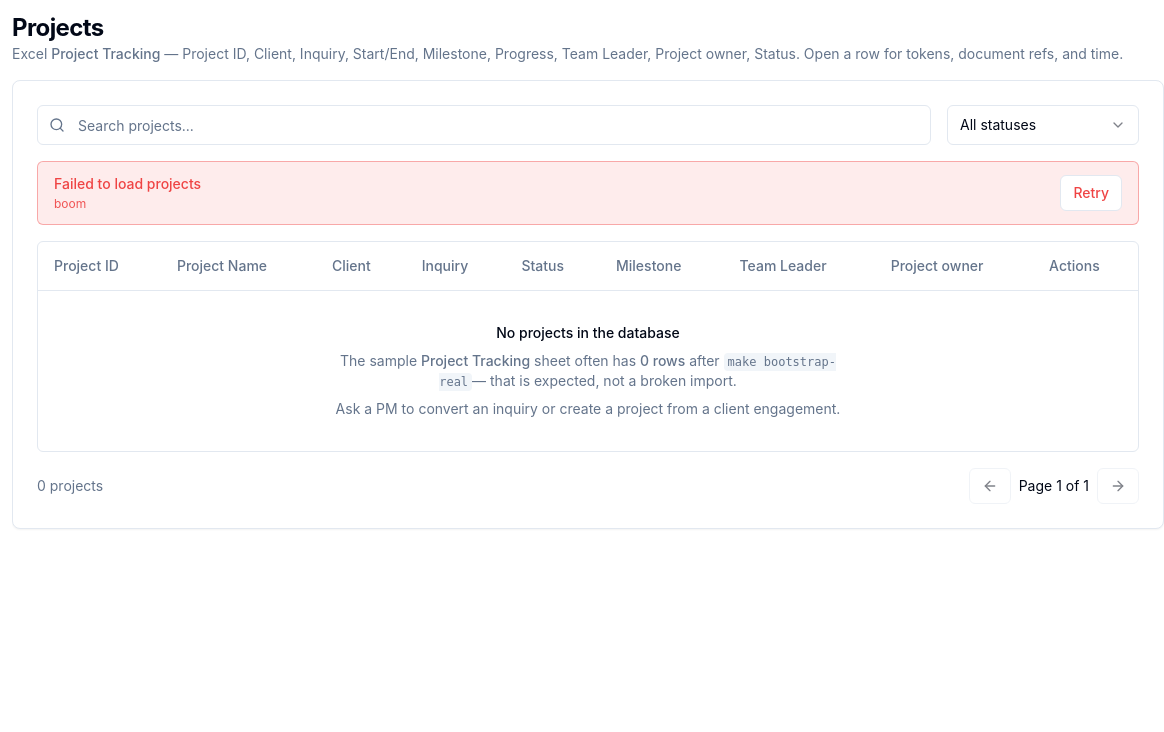
ProjectList › shows error banner and retries
Expected: the message shows "Failed to load projects", left=54, top=175, right=201, bottom=192
Click the button "Retry" at (1091, 193), box left=1060, top=175, right=1122, bottom=211
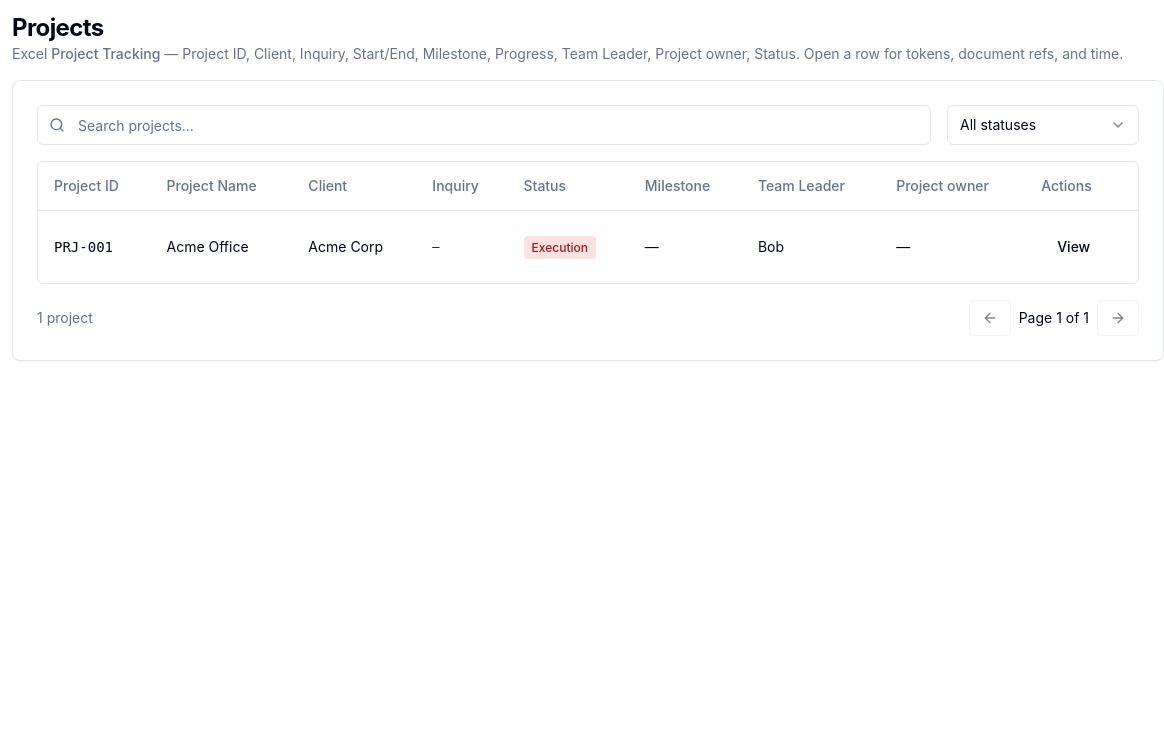
Result: the text "PRJ-001" is shown at left=38, top=210, right=150, bottom=282
